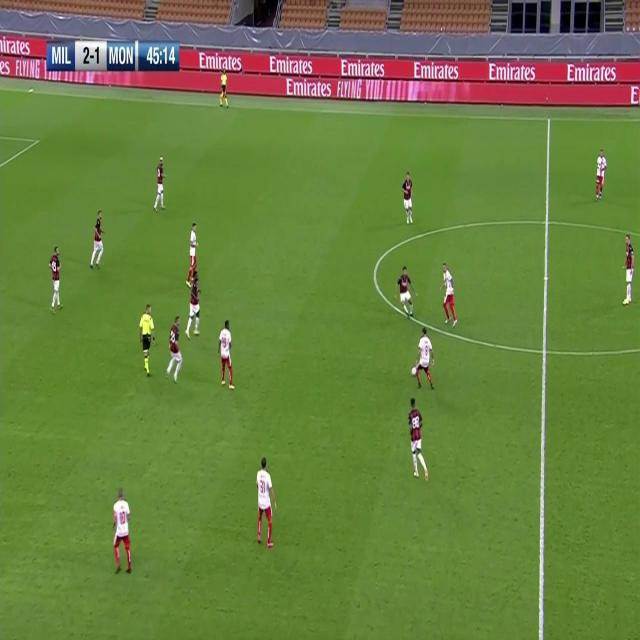ball: (411, 365, 417, 376)
player: (255, 455, 277, 549), (406, 398, 430, 483), (111, 485, 133, 575), (412, 325, 436, 391), (394, 264, 418, 320), (139, 302, 157, 376), (217, 317, 235, 391), (165, 316, 184, 386), (440, 260, 458, 328), (48, 244, 64, 316), (185, 268, 201, 340), (89, 207, 105, 272), (622, 232, 636, 306), (152, 154, 167, 213), (593, 147, 607, 201), (402, 169, 414, 227), (186, 221, 198, 273), (218, 65, 230, 110)
